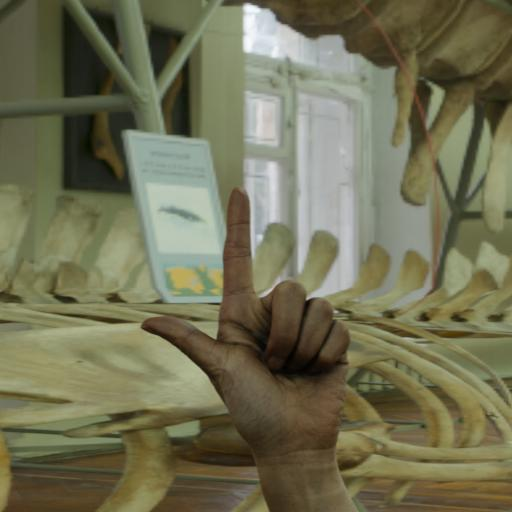L: (114, 176, 400, 512)
